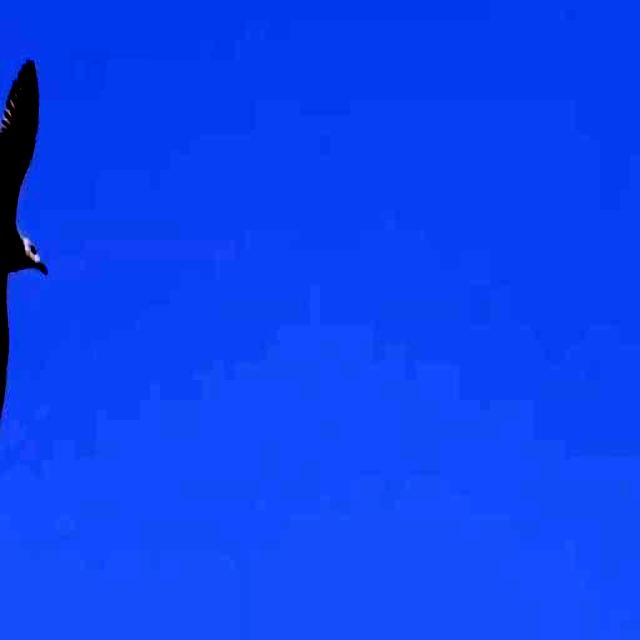airplane: (0, 48, 58, 480)
